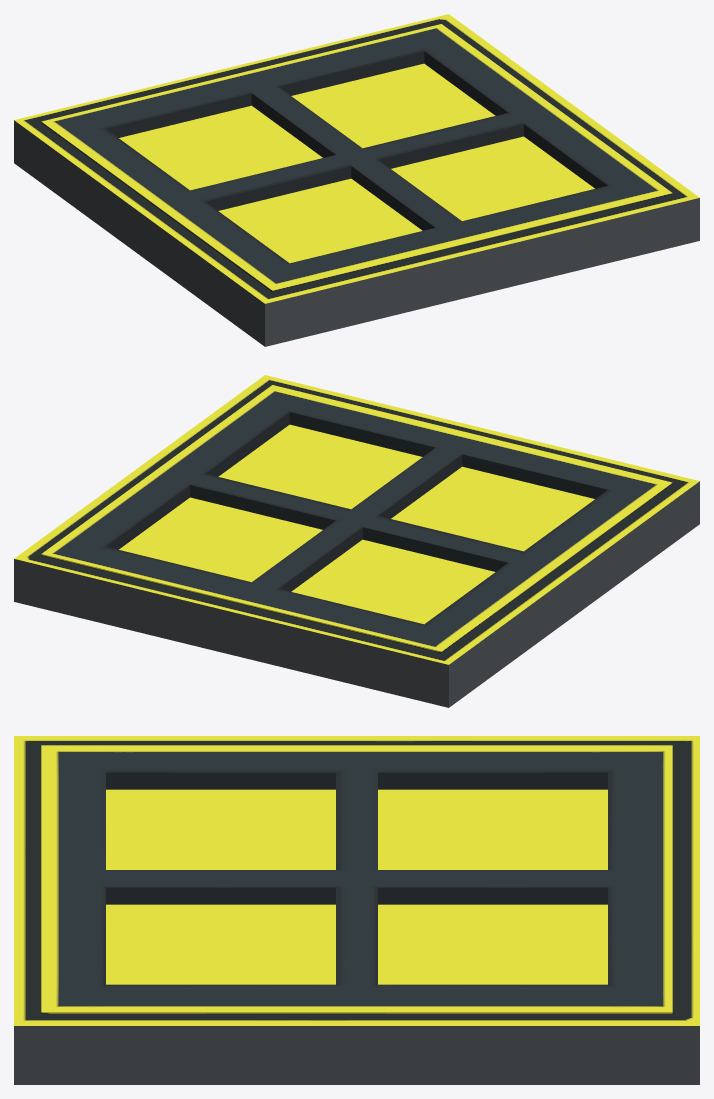
File: Button_Yellow.fbx
3 views of the same model, one above another, from view 1: azimuth 30°, elevation 25°; view 2: azimuth 150°, elevation 25°; view 3: azimuth 270°, elevation 25° (orthographic). The views are drawn at different scales.
Visible parts, largest first — view 1: Box001; view 2: Box001; view 3: Box001.
Boxes of the visible parts, x1=… form: Box001: x1=14, y1=14, x2=699, y2=346; Box001: x1=14, y1=375, x2=699, y2=707; Box001: x1=14, y1=736, x2=699, y2=1084.
Bounding box in the file's own units: 1 × 0.0984 × 1.
1 material, 1 textured.
